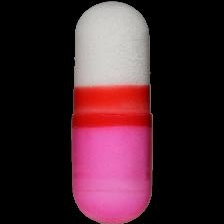10544-166: (0, 0, 224, 224)
